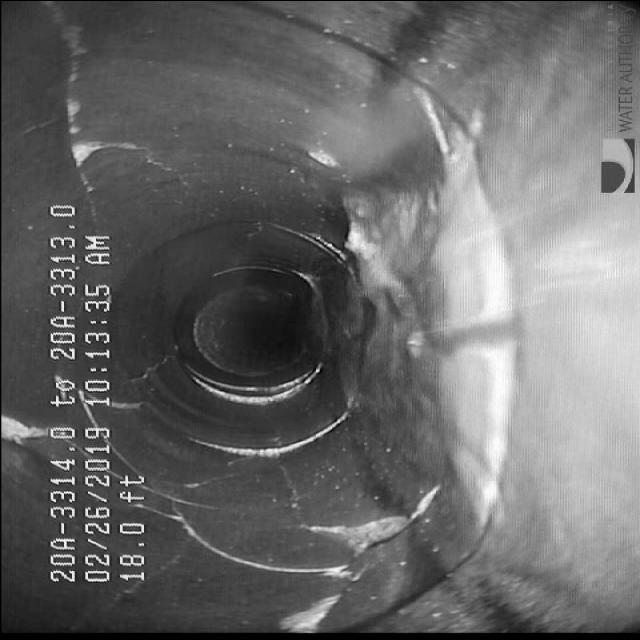Fracture: (285, 447, 539, 622), (27, 23, 144, 190)
